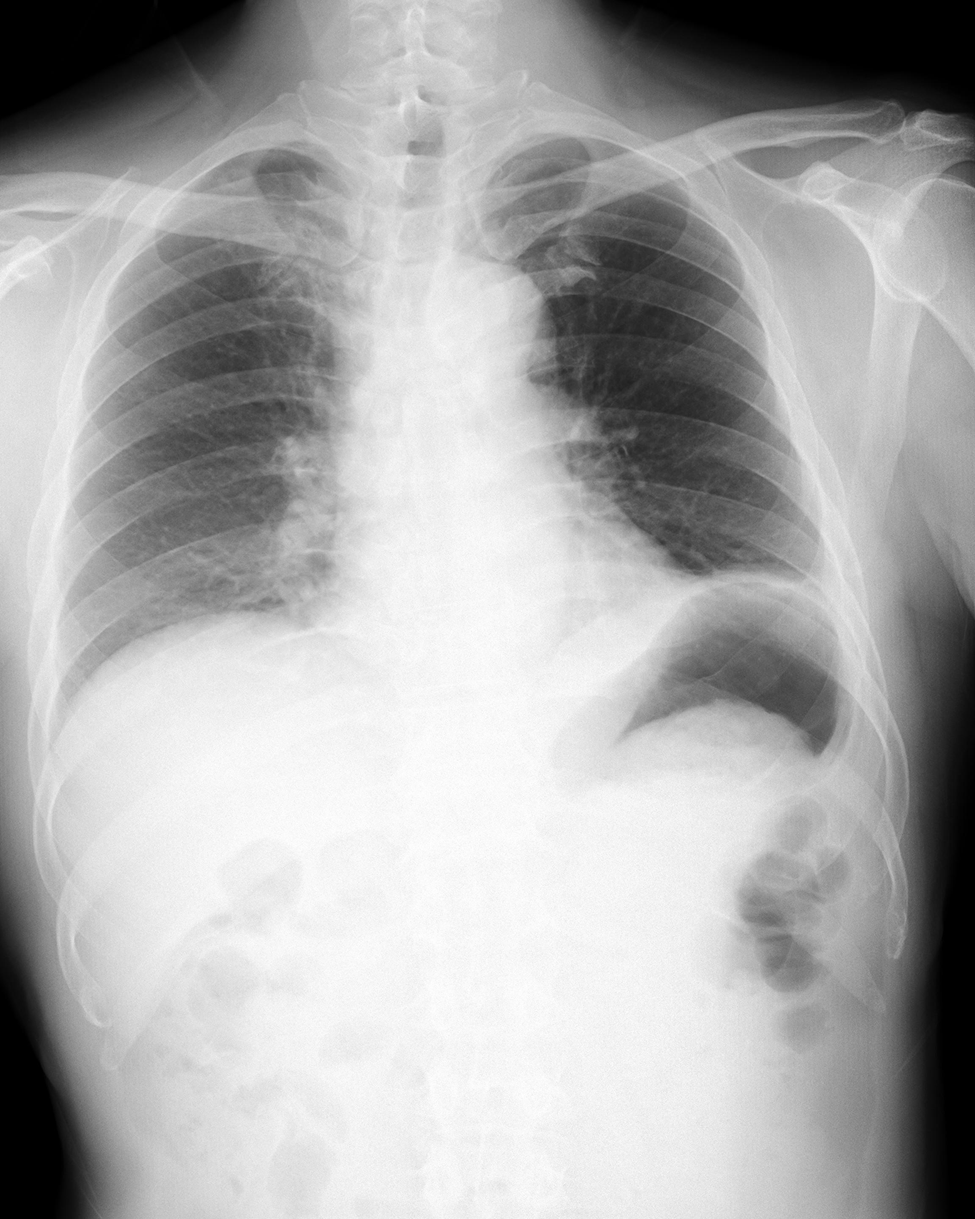Aortic enlargement: (427, 257, 559, 387)
Pleural thickening: (819, 569, 861, 641)
